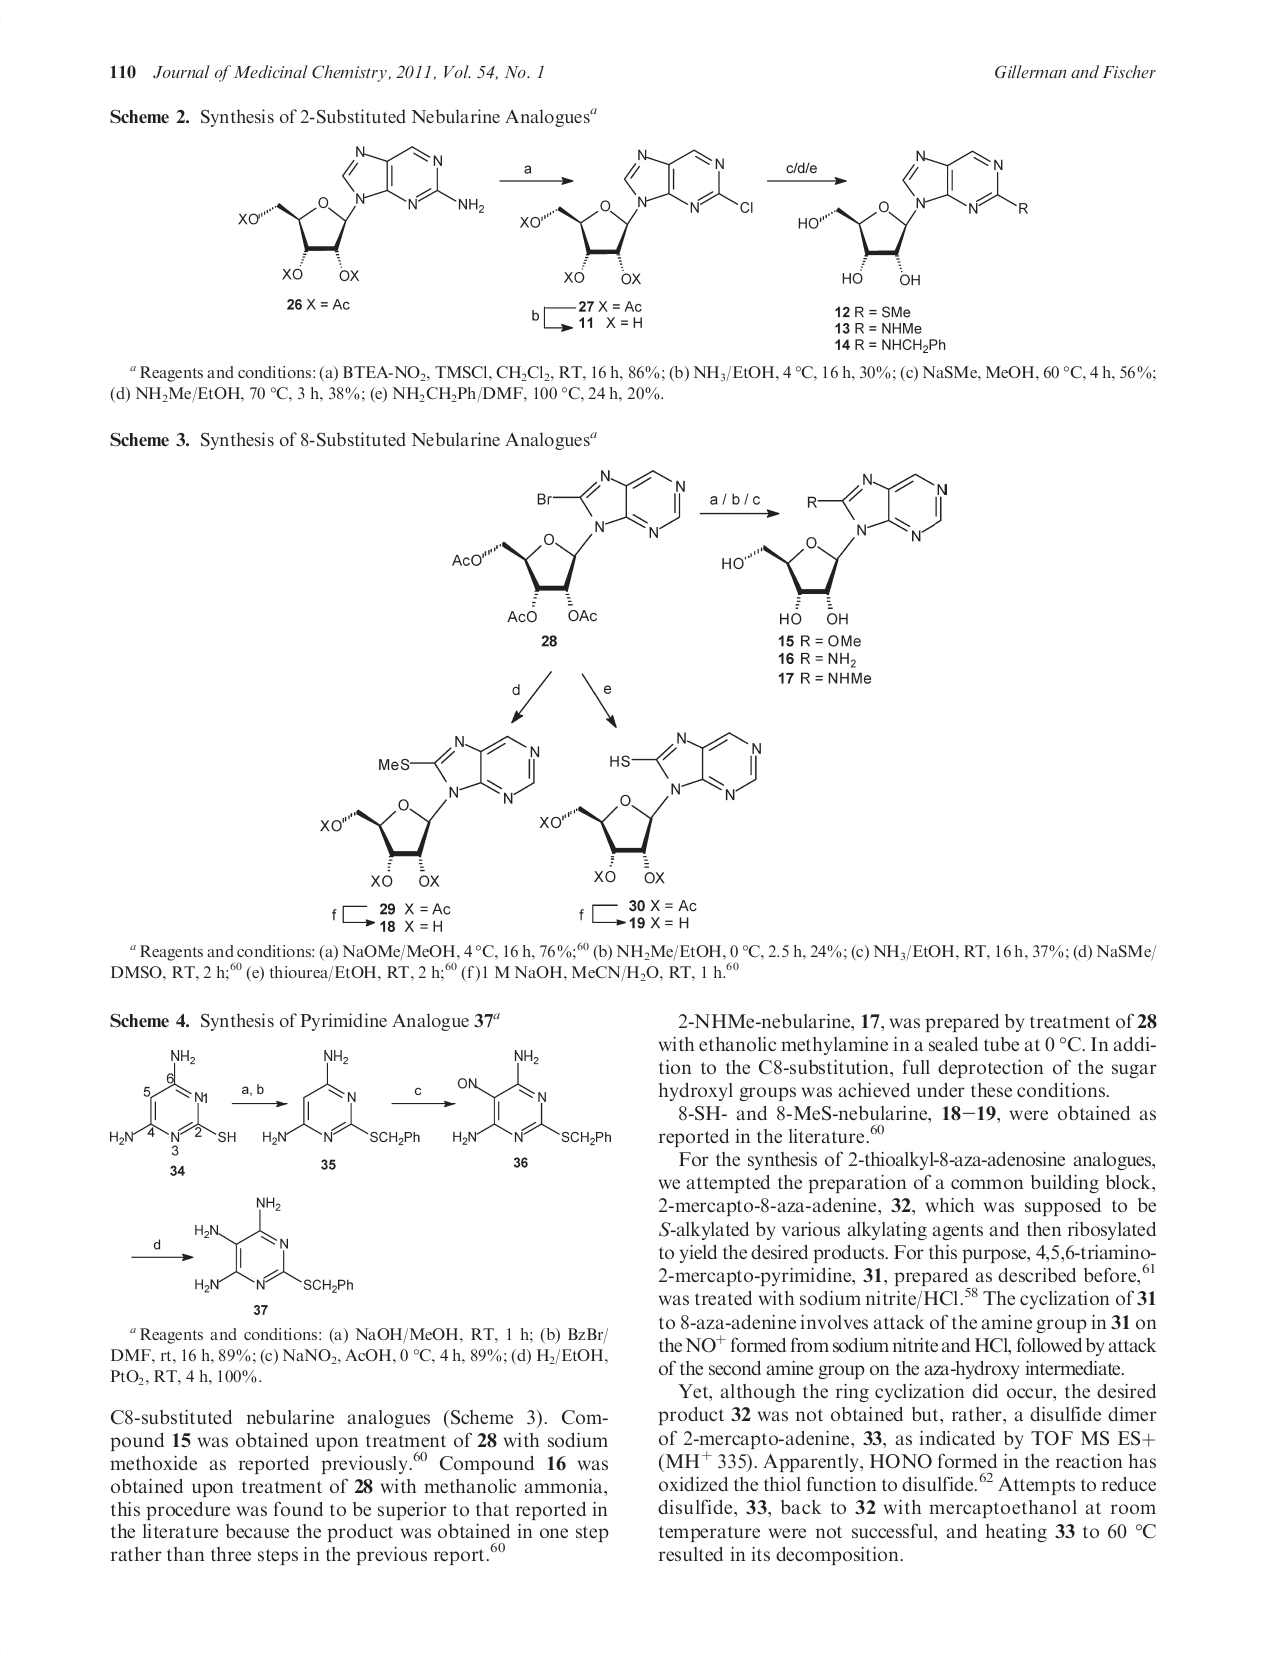exist_molecular: (447, 468, 689, 622), (718, 465, 948, 626), (313, 731, 541, 888), (539, 726, 761, 886), (235, 142, 485, 281), (793, 146, 1029, 291), (517, 146, 757, 287), (448, 1045, 612, 1150), (193, 1194, 360, 1297), (261, 1047, 422, 1150), (105, 1043, 238, 1157)
